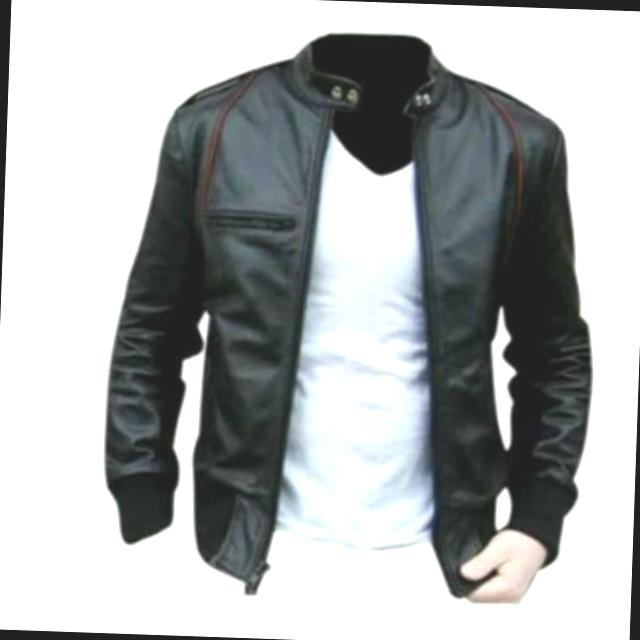jacket: (96, 21, 606, 594)
